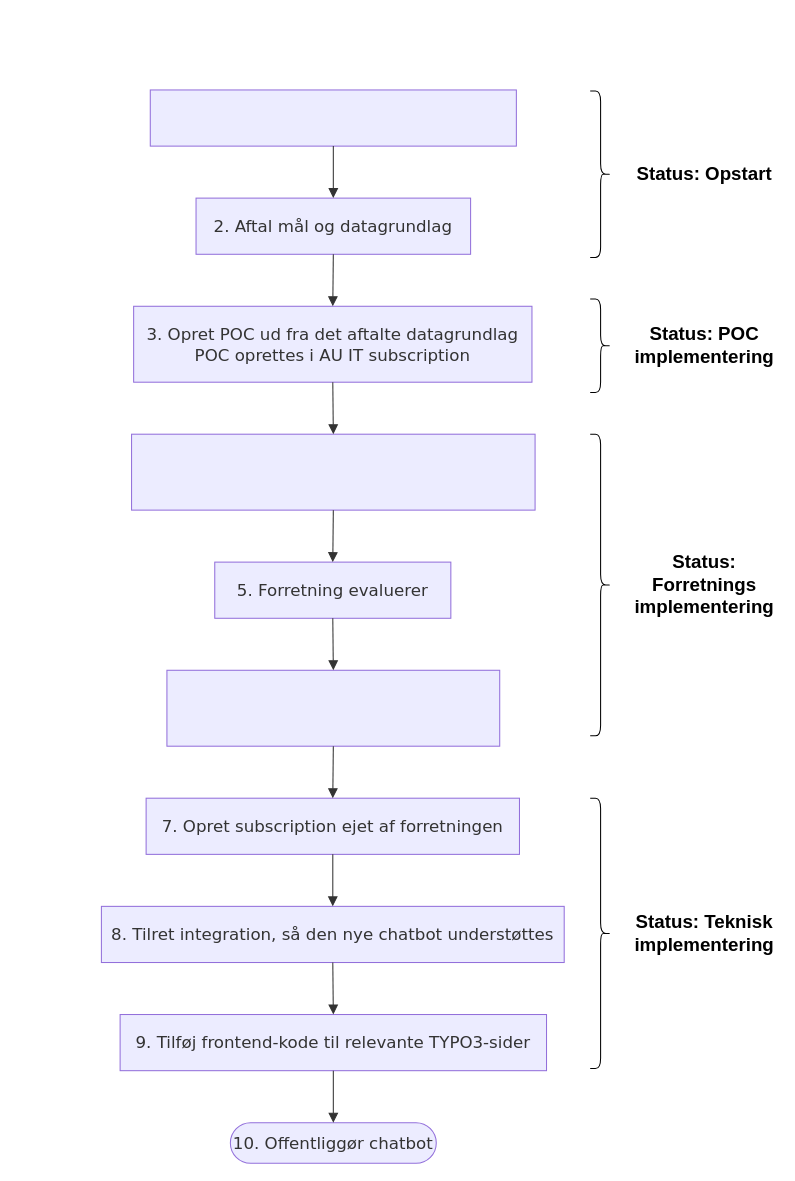
This 795x1181 diagram has some shape labels left out. Each missing label, with the centre of its shape:
1. Henvendelse og dialog med forretning: [332,117]
4. Overdrag POC til forretning Introduktion til systemprompt og datakvalitet: [333,471]
6. Udarbejd forvaltningsaftale Aftalen underskrives af forretningen: [333,707]
